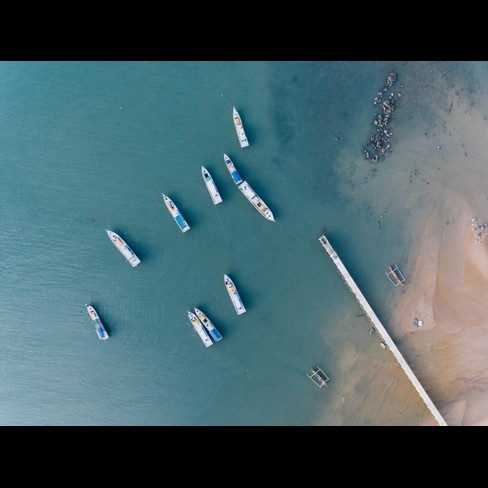boat: (236, 176, 276, 225), (101, 224, 141, 270), (80, 299, 116, 347), (157, 189, 193, 236), (192, 305, 224, 345), (185, 310, 214, 349), (222, 272, 247, 317), (199, 163, 222, 208), (229, 106, 251, 150), (222, 150, 243, 185), (304, 363, 332, 389), (382, 263, 410, 287)
